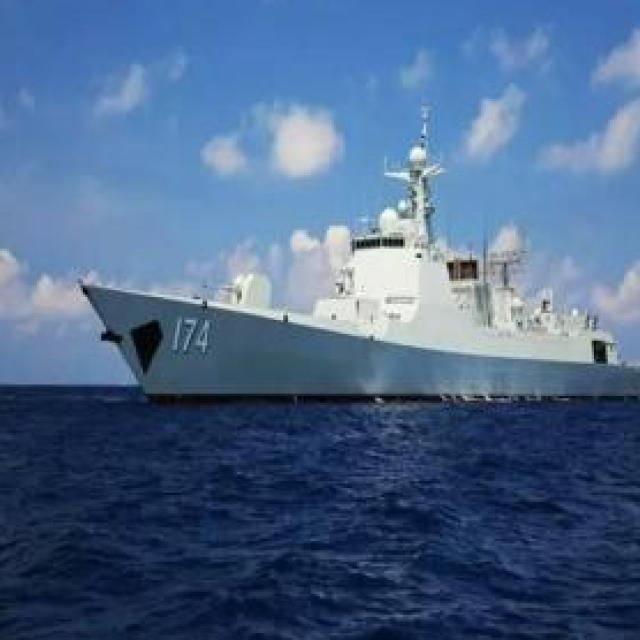navalvessels: (69, 131, 640, 417)
